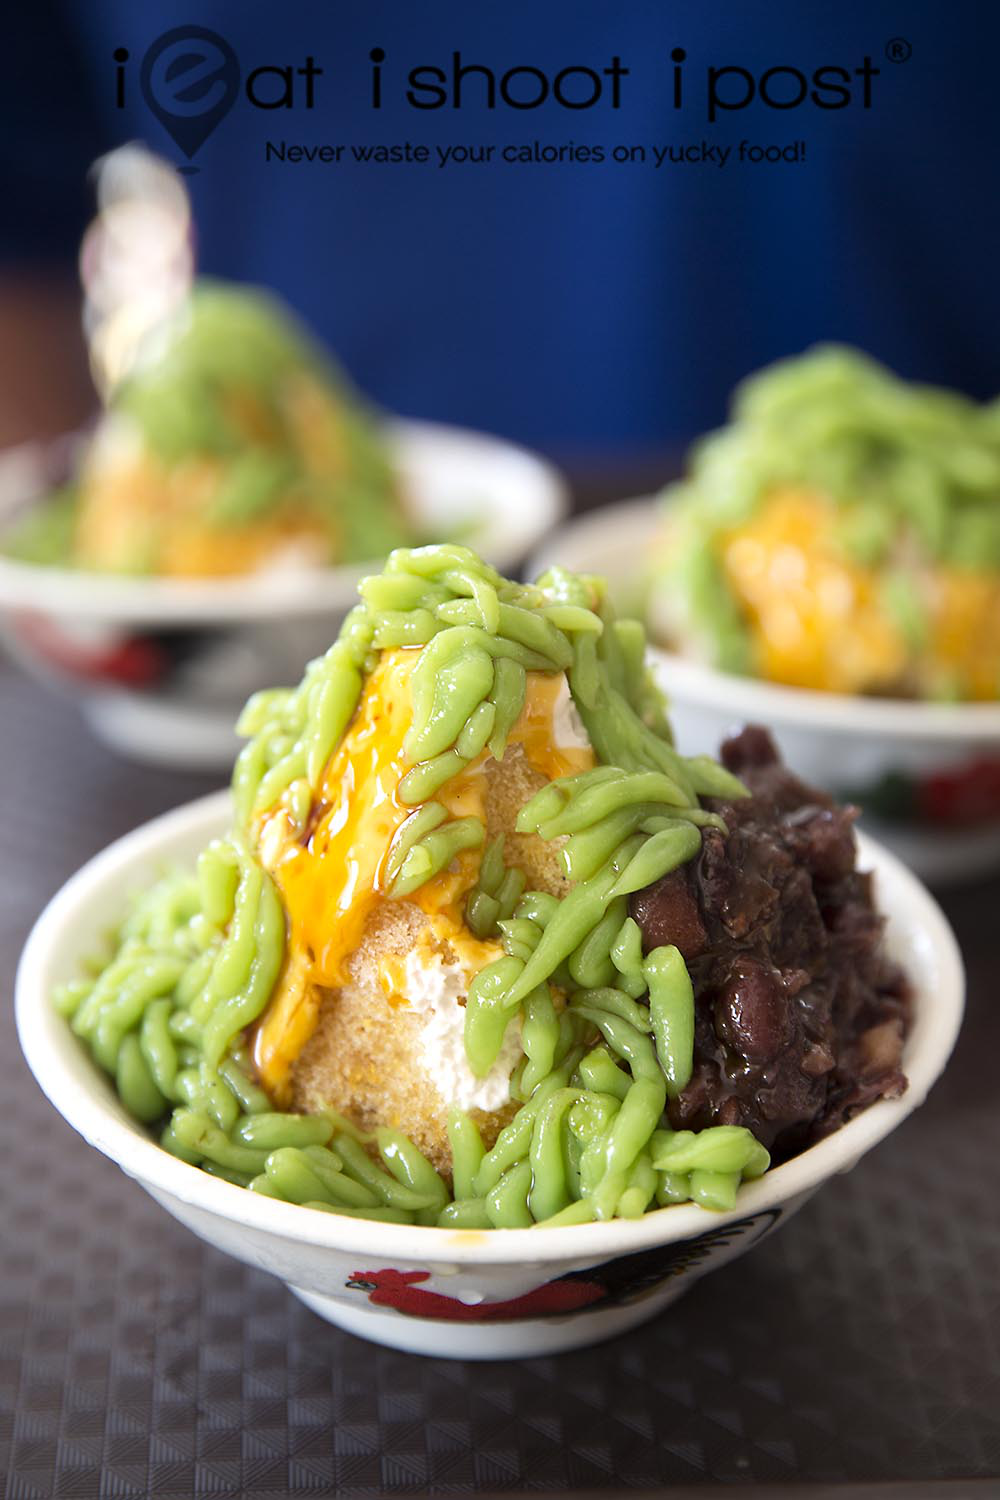Chendol: (100, 585, 935, 1297), (634, 328, 999, 704), (67, 268, 414, 603)
